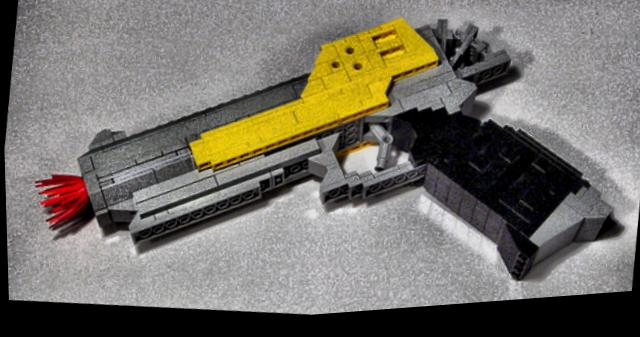pistol: (23, 0, 636, 335)
